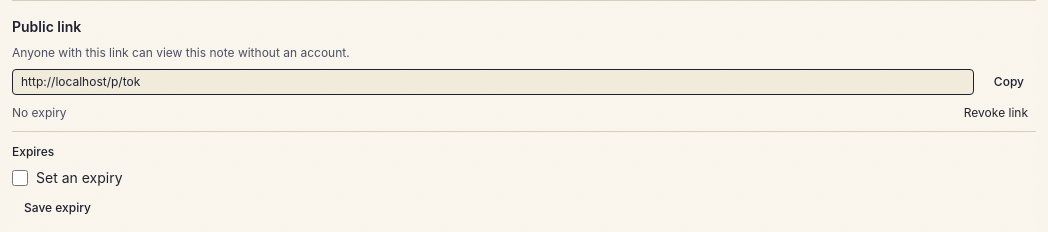
Test case: PublicLinkSection › revokes an existing link
Click the button "Revoke link".
click(996, 113)  # box x1=956 y1=103 x2=1036 y2=123
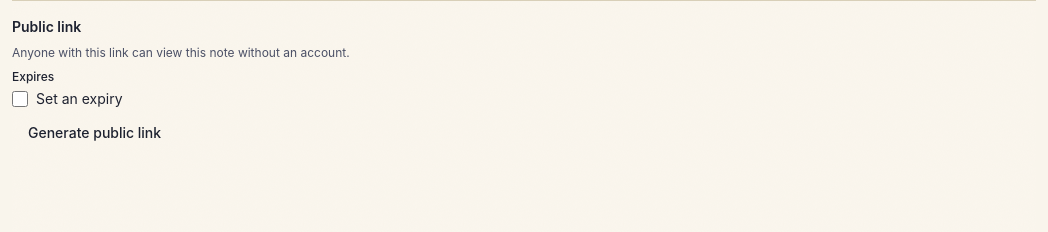
Expected: the button "Generate public link" is shown, x1=12 y1=117 x2=177 y2=149
